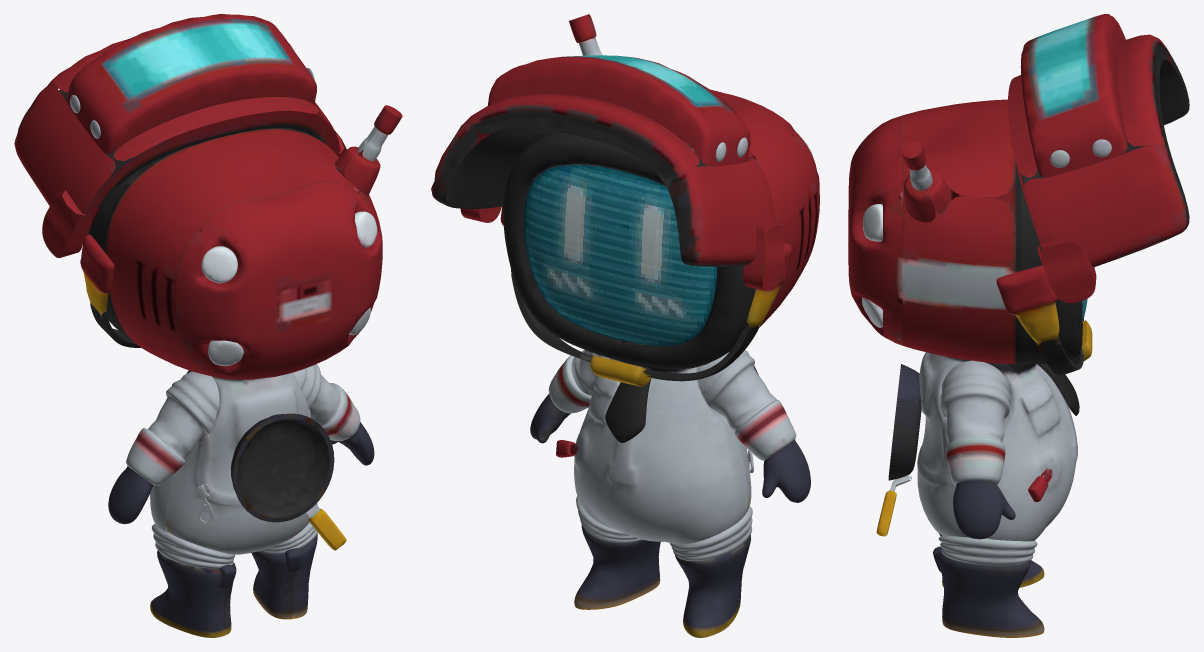
File: astronaut.glb
3 renders of one model, left to right at view 1: azimuth 30°, elevation 25°; view 2: azimuth 150°, elevation 25°; view 3: azimuth 270°, elevation 25°, orthographic. The views are drawn at different scales.
Visible parts, largest first — view 1: Mesh_0397_rip; view 2: Mesh_0397_rip, Mesh_0398_rip; view 3: Mesh_0397_rip.
Part boxes in pixels (x1,y1,x2,y2): Mesh_0397_rip: (14,14,402,637); Mesh_0397_rip: (431,14,819,637); Mesh_0398_rip: (523,164,717,345); Mesh_0397_rip: (848,14,1189,637).
Size of the model in its own units: 0.3802 by 0.6974 by 0.379.
Materials: 2 (2 with a texture image).
